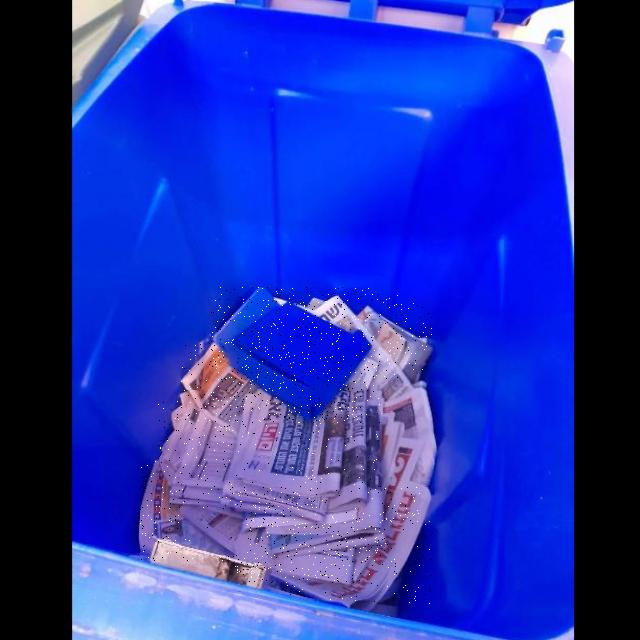paper: (211, 287, 372, 423), (273, 481, 433, 606), (231, 384, 350, 494), (306, 293, 414, 402), (235, 489, 386, 563), (141, 459, 230, 561), (159, 391, 234, 507), (181, 342, 259, 440), (234, 527, 354, 584), (169, 412, 235, 509), (381, 380, 440, 486), (369, 412, 421, 522), (357, 304, 432, 379), (325, 381, 367, 512), (222, 474, 329, 522), (179, 505, 245, 555), (365, 400, 381, 491)
